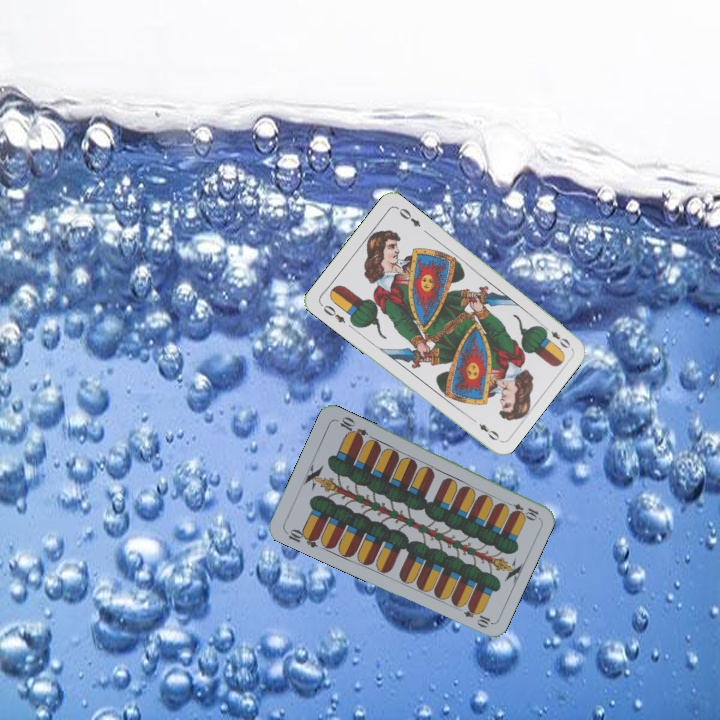E10: (281, 525, 321, 550), (501, 498, 541, 522)
EO: (538, 321, 573, 351), (317, 300, 348, 326)
